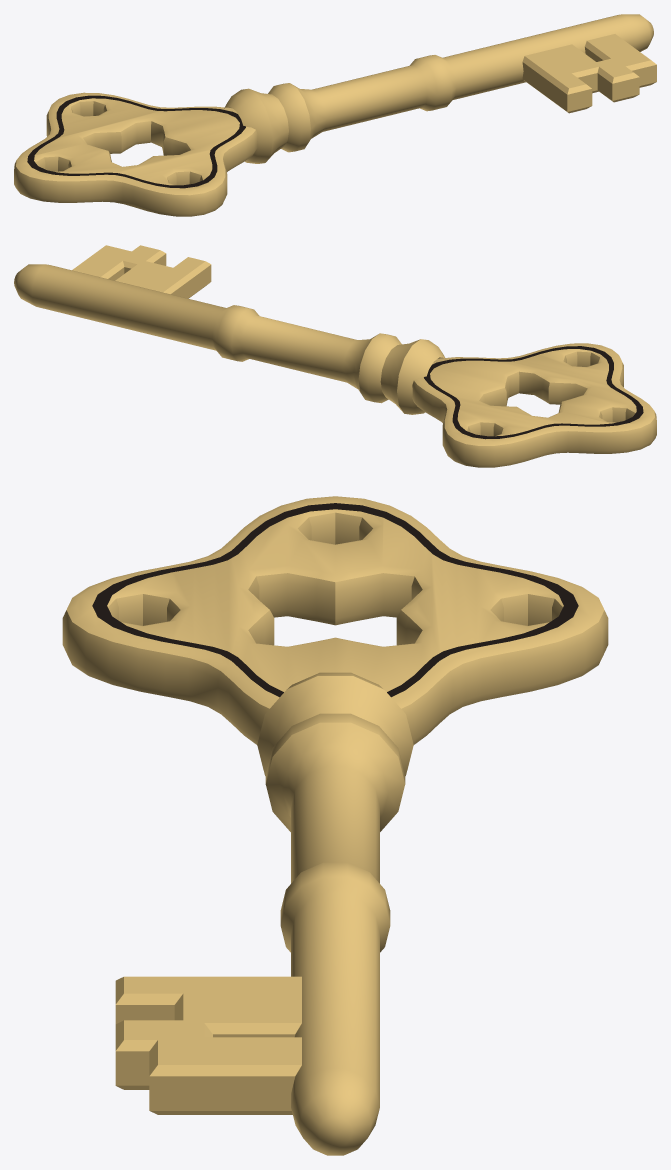
File: brass_key.glb
3 views of the same model, one above another, from view 1: azimuth 30°, elevation 25°; view 2: azimuth 150°, elevation 25°; view 3: azimuth 270°, elevation 25° (orthographic). The views are drawn at different scales.
Parts seen in each view (by area): view 1: brass_key; view 2: brass_key; view 3: brass_key.
Boxes of the visible parts, bbox=[...] form: brass_key: bbox=[14, 14, 656, 216]; brass_key: bbox=[14, 245, 656, 467]; brass_key: bbox=[62, 496, 608, 1155].
Size of the model in its own units: 0.0691 by 0.00721 by 0.0258.
